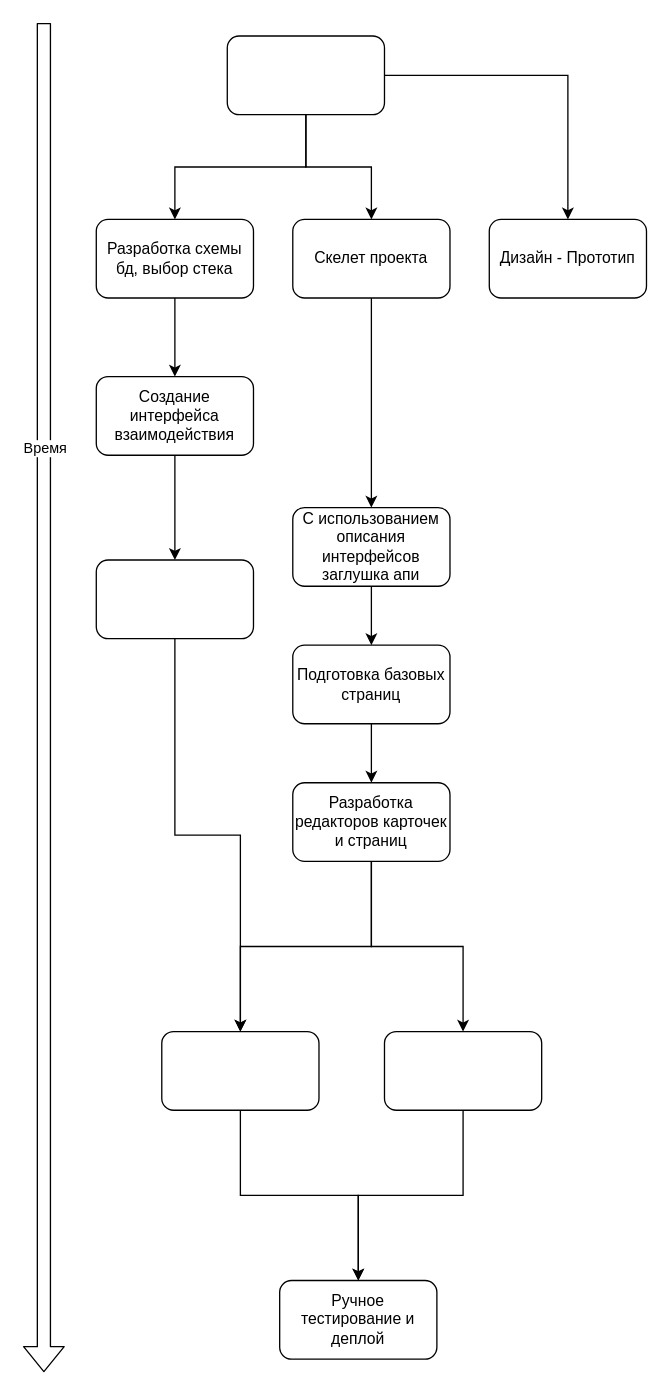
The diagram is 669 pixels wide and 1394 high, and some of its shapes have lost their labels. Each missing label, with the box of its shape:
Интеграционное тестирование: (383, 1030, 542, 1110)
Интеграция фронта и апи: (160, 1030, 319, 1110)
Начало: (226, 35, 384, 115)
Реализация функций апи: (95, 559, 253, 639)
